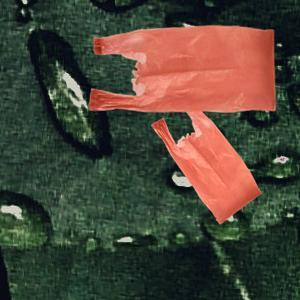plastic_bag: (87, 22, 280, 115), (150, 104, 263, 227)
